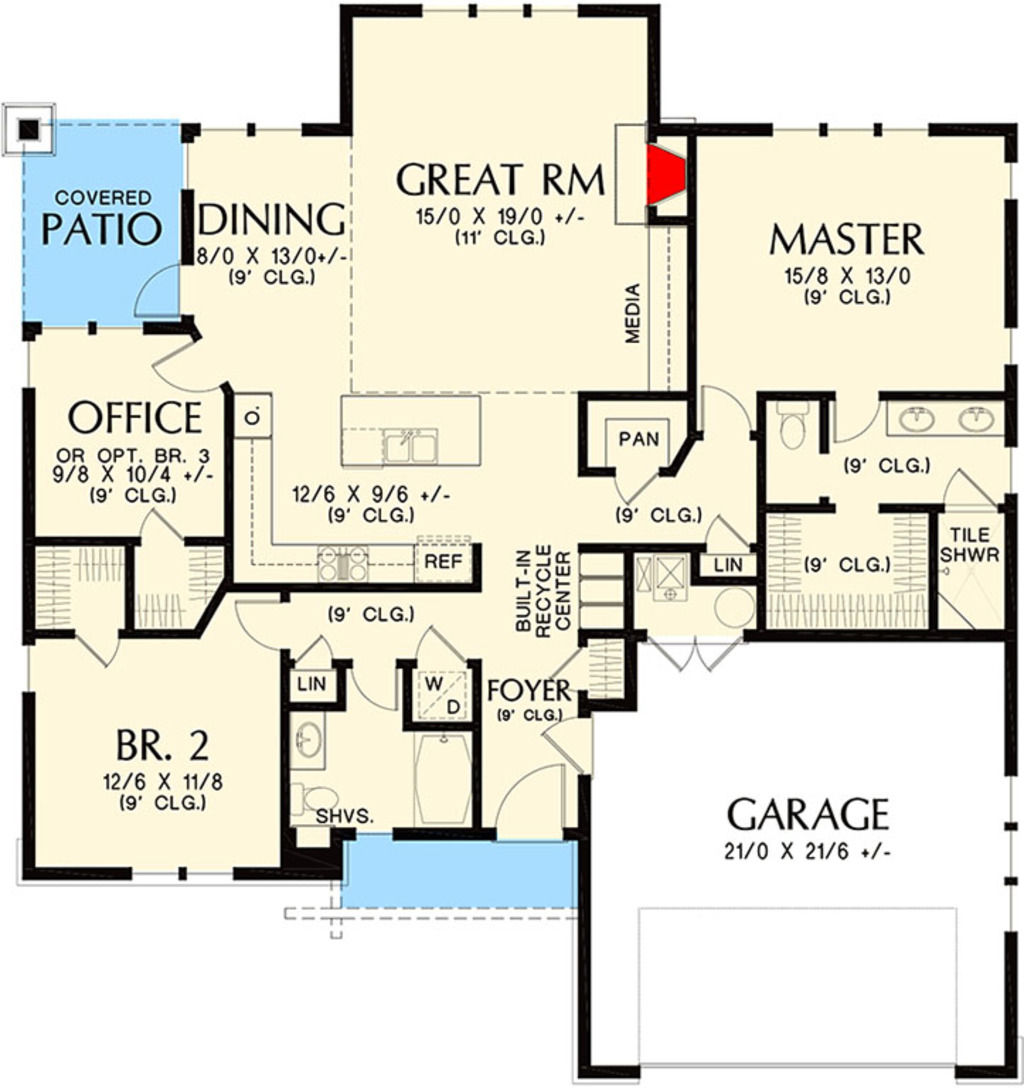door: (489, 764, 567, 840), (645, 630, 744, 679), (222, 594, 294, 659), (530, 709, 604, 772), (152, 335, 228, 391), (822, 389, 884, 455), (127, 265, 185, 325), (694, 382, 757, 437), (939, 465, 1009, 512), (697, 512, 762, 562), (345, 660, 402, 712), (610, 457, 675, 502), (72, 624, 132, 670), (542, 647, 590, 700), (135, 500, 195, 542), (414, 624, 465, 672), (292, 639, 327, 669)
large_sink: (762, 389, 819, 457), (280, 779, 349, 820)
small_sink: (884, 397, 1014, 439), (289, 707, 327, 769)
tub: (402, 722, 477, 829)
twin_sink: (370, 420, 449, 467)
